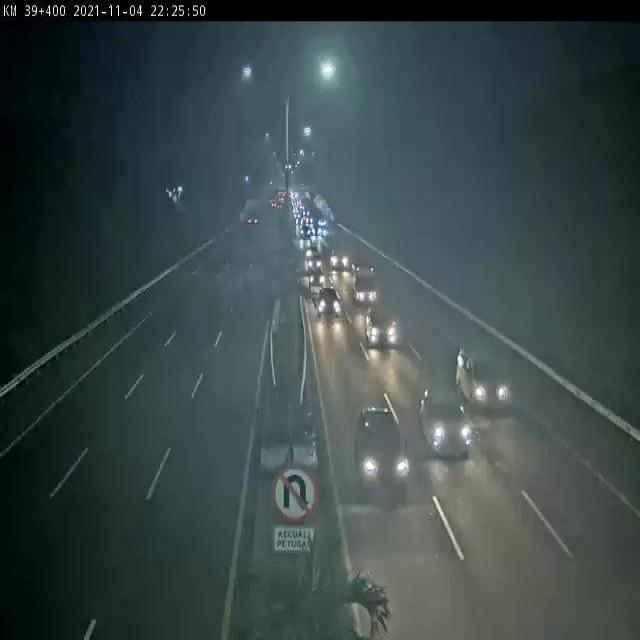car: (346, 401, 419, 515), (446, 334, 518, 418), (412, 386, 473, 474), (362, 302, 417, 370), (308, 280, 346, 329)
truck-s-: (345, 263, 388, 316)
